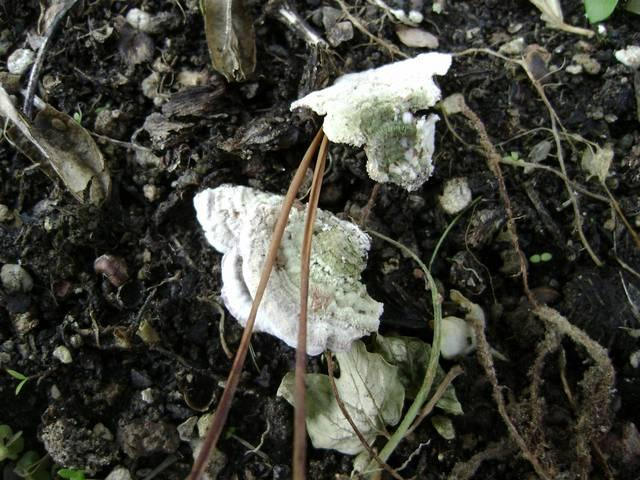Non-edible Mushroom: (191, 181, 385, 357), (288, 49, 453, 191)
